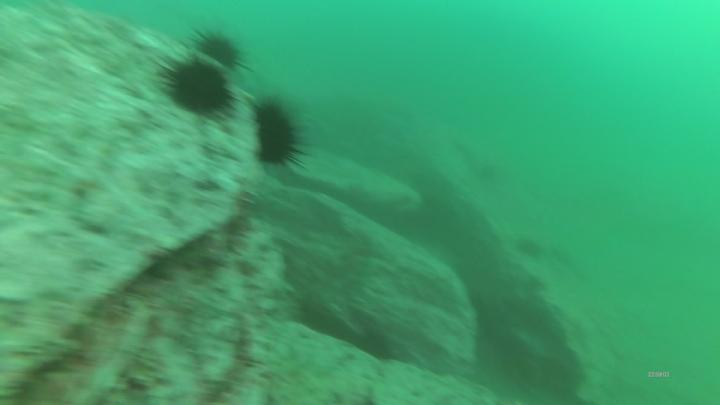echinus: (173, 66, 229, 117), (260, 104, 300, 168), (198, 34, 237, 68)
